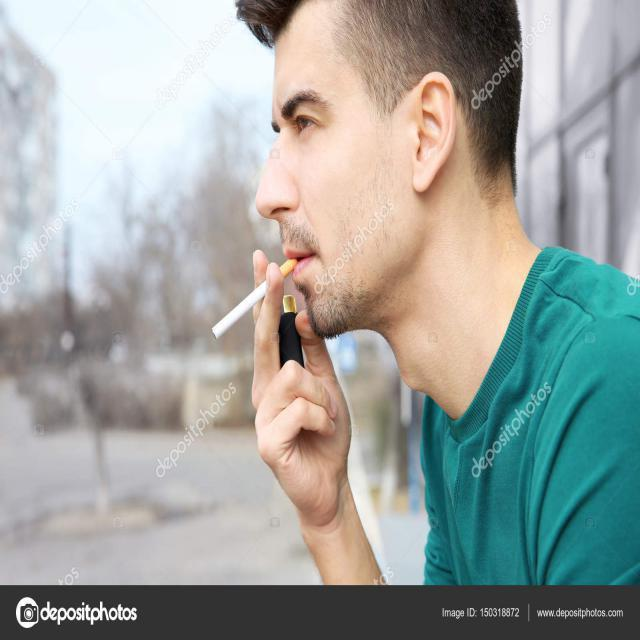smoking: (205, 253, 303, 341)
